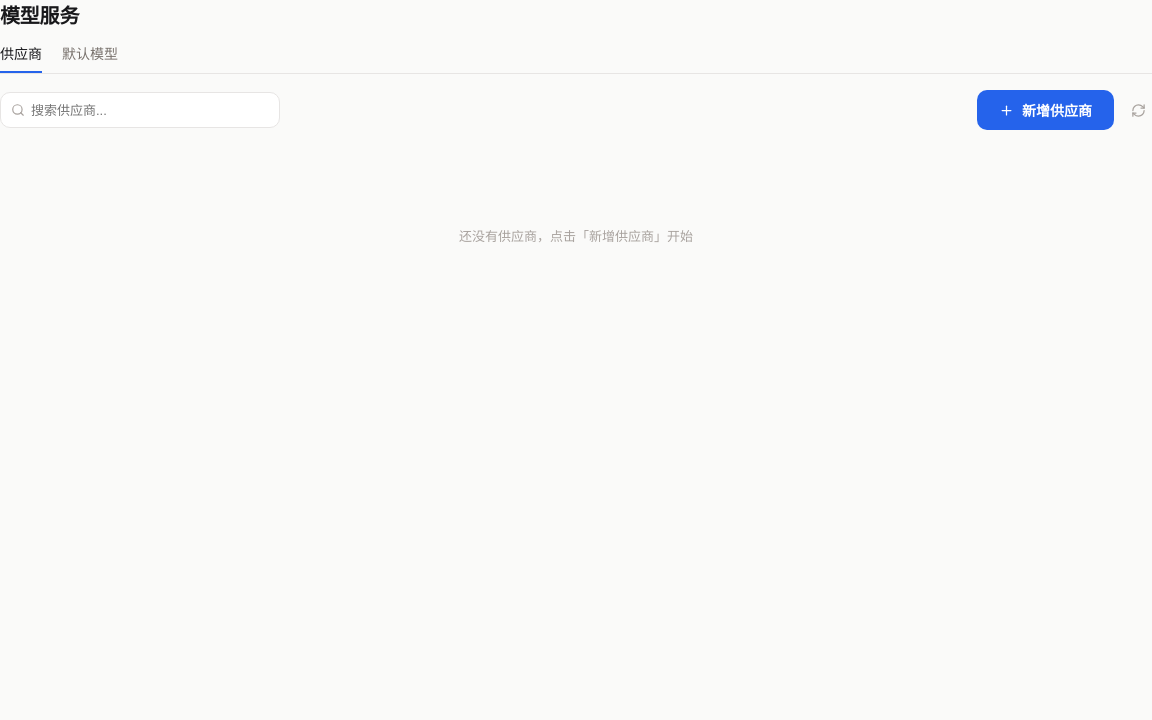
Test: new provider dialog › validates the provider id
Click the button "新增供应商" at (1046, 110), box left=977, top=90, right=1114, bottom=130
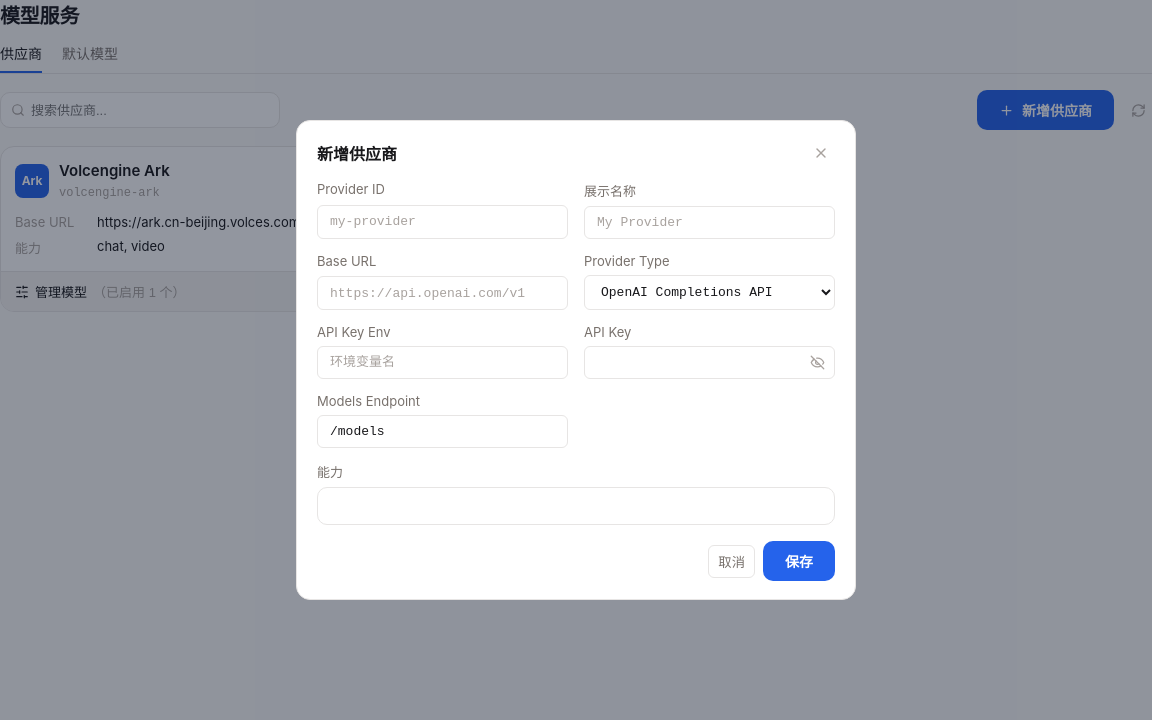
Type "Bad ID" into the field with placeholder "my-provider" at (442, 222), box left=317, top=204, right=568, bottom=239
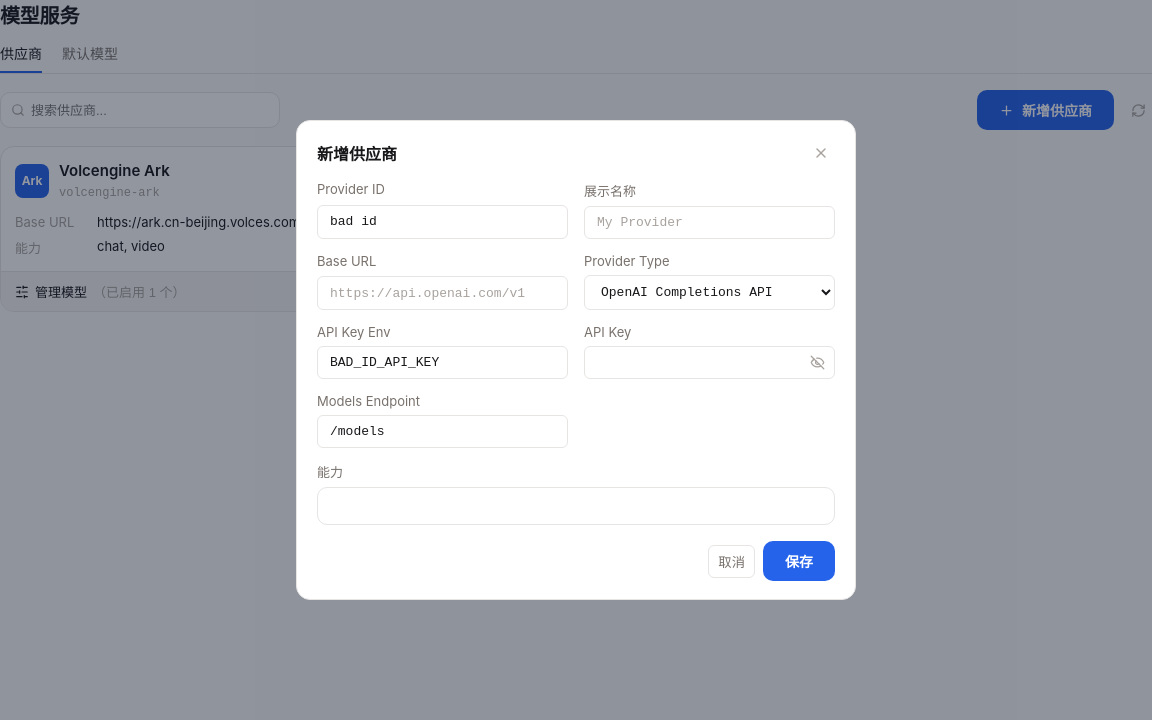
Click the button "保存" at (799, 561), box left=763, top=541, right=835, bottom=581
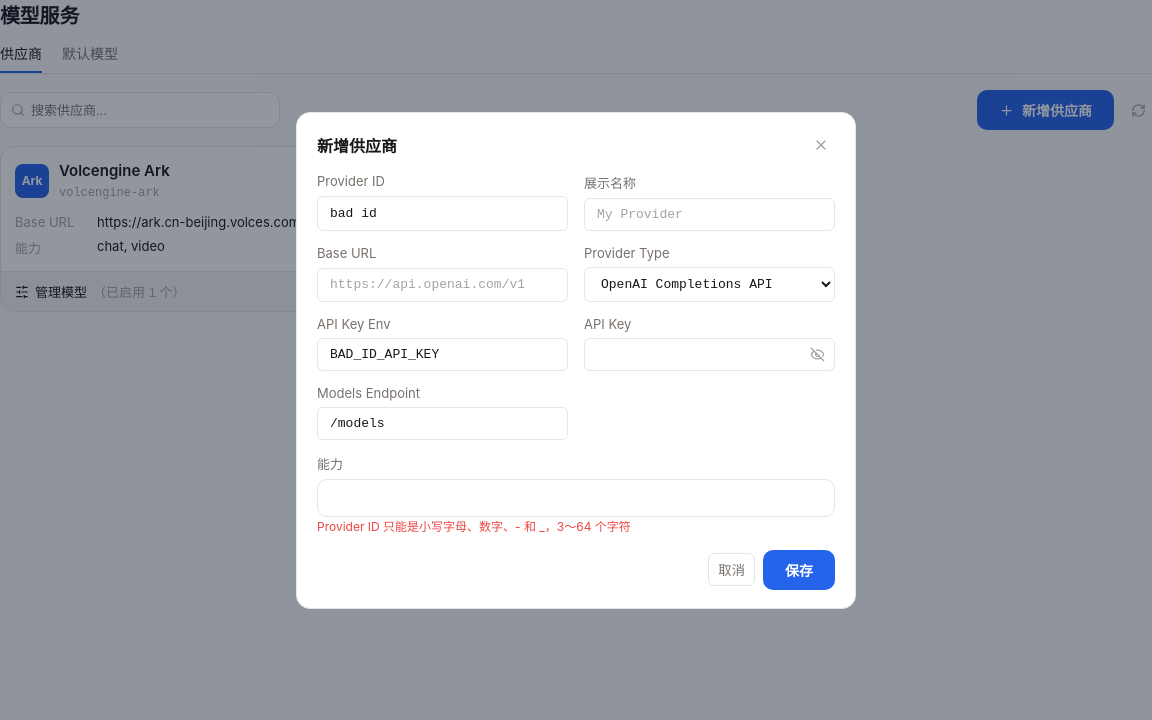
Result: the text "Provider ID 只能是小写字母、数字、- 和 _，3～64 个字符" is shown at left=317, top=518, right=631, bottom=534
